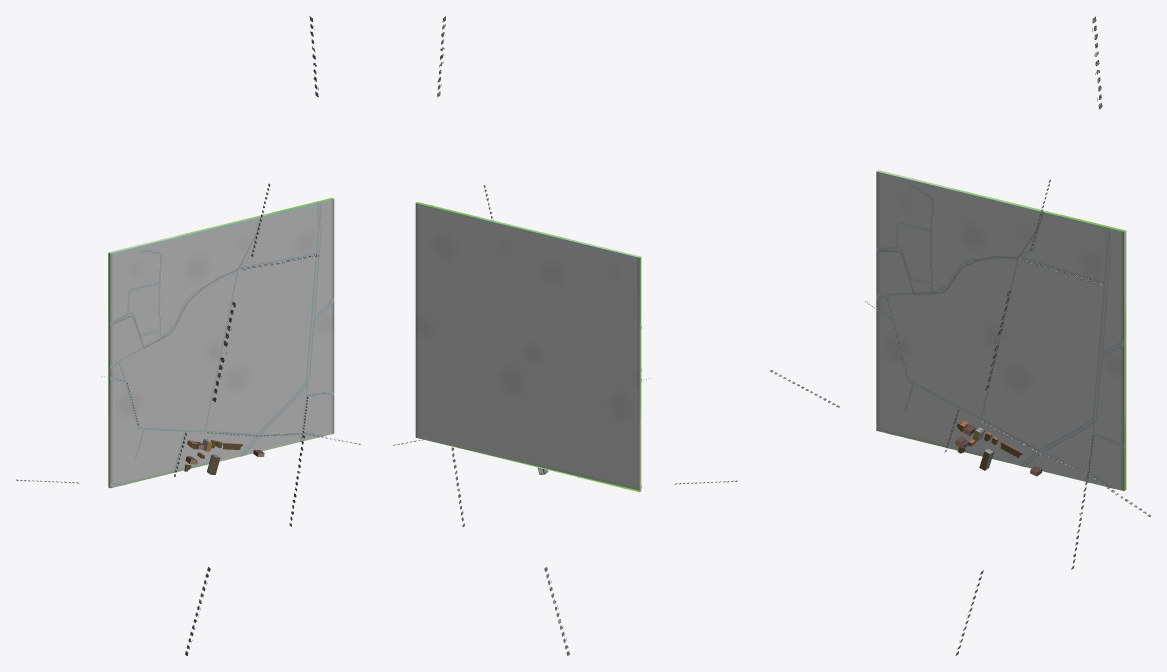
3 views of the same model, side by side, from view 1: azimuth 30°, elevation 25°; view 2: azimuth 150°, elevation 25°; view 3: azimuth 330°, elevation 25° (orthographic). The views are drawn at different scales.
Visible parts, largest first — view 1: POLYGON, POLYLINE, FONT, BUILDING; view 2: POLYGON, FONT; view 3: POLYGON, POLYLINE, FONT, BUILDING.
Boxes of the visible parts, x1,y1,x2,y2 form: POLYGON: [108, 197, 334, 488]; POLYLINE: [110, 202, 334, 486]; FONT: [16, 16, 360, 655]; BUILDING: [184, 439, 264, 474]; POLYGON: [415, 202, 641, 492]; FONT: [393, 16, 737, 655]; POLYGON: [876, 170, 1126, 490]; POLYLINE: [876, 186, 1124, 488]; FONT: [769, 16, 1150, 655]; BUILDING: [955, 419, 1042, 476].
Size of the model in its own units: 942 by 1589 by 29.
Materials: 3 (3 with a texture image).
